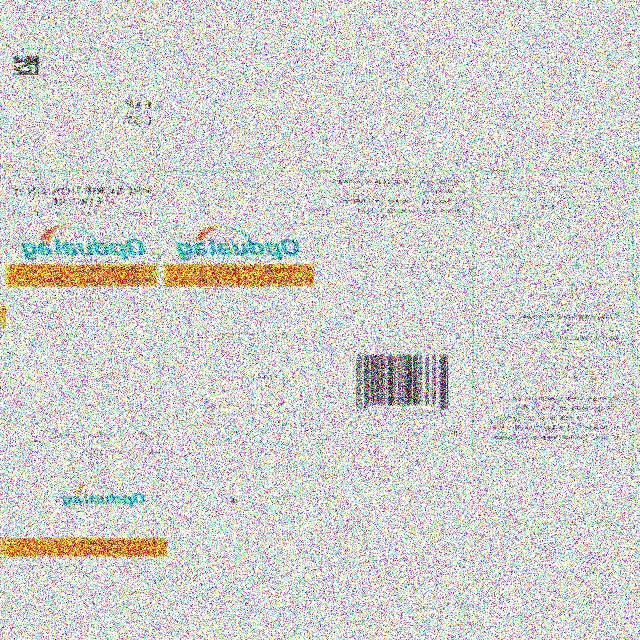Artwork: (0, 0, 640, 640)
Back_Panel: (319, 171, 473, 471)
Bottom_Part: (5, 45, 158, 171)
Extra_Areas: (326, 471, 474, 640), (475, 470, 635, 525), (159, 470, 318, 525), (4, 594, 160, 637), (6, 2, 158, 46), (158, 135, 320, 172), (473, 135, 633, 172), (632, 171, 640, 471)
Front_Panel: (6, 172, 160, 472)
Side_Panel: (472, 171, 633, 472), (159, 172, 319, 471)
Top_Panel: (3, 472, 159, 593)
